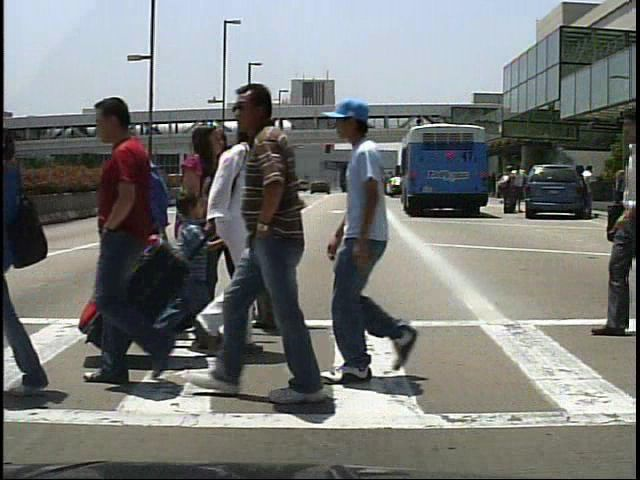person: (214, 84, 352, 424), (75, 91, 184, 389), (167, 104, 281, 363), (335, 104, 432, 384), (98, 122, 184, 343), (231, 135, 307, 331), (171, 120, 229, 361), (193, 128, 265, 322), (169, 188, 211, 319), (582, 163, 602, 218), (498, 166, 516, 219), (513, 165, 529, 215)
